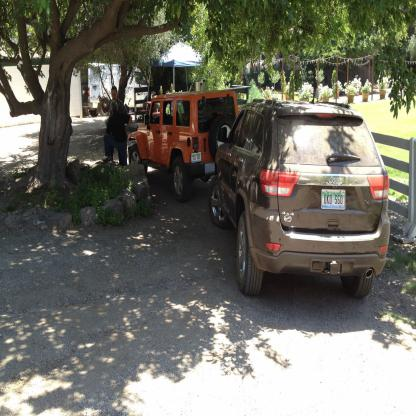Vehicle: (209, 93, 389, 301)
